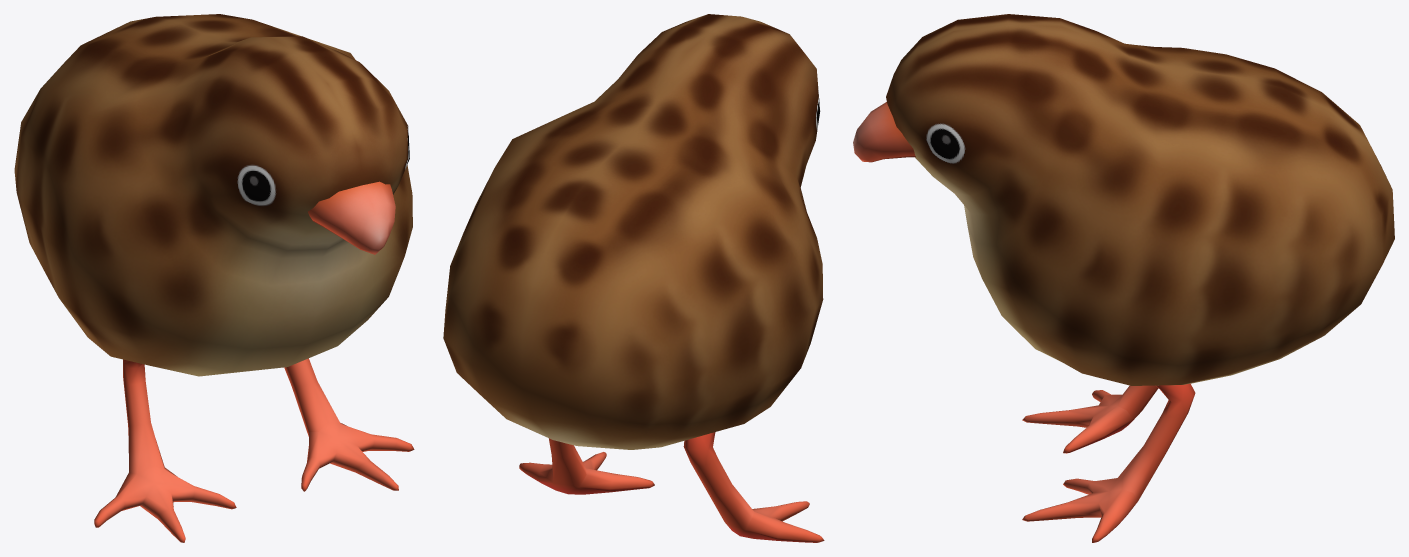
The model's file is ENV2010108.fbx.
3 renders of one model, left to right at view 1: azimuth 30°, elevation 25°; view 2: azimuth 150°, elevation 25°; view 3: azimuth 270°, elevation 25°, orthographic. The views are drawn at different scales.
Parts seen in each view (by area): view 1: smENV2010108; view 2: smENV2010108; view 3: smENV2010108.
Boxes of the visible parts, x1,y1,x2,y2 form: smENV2010108: (14, 14, 414, 542); smENV2010108: (443, 14, 824, 542); smENV2010108: (853, 14, 1394, 542).
Bounding box in the file's own units: 6.58 × 8.87 × 9.73.
1 material, 1 textured.
